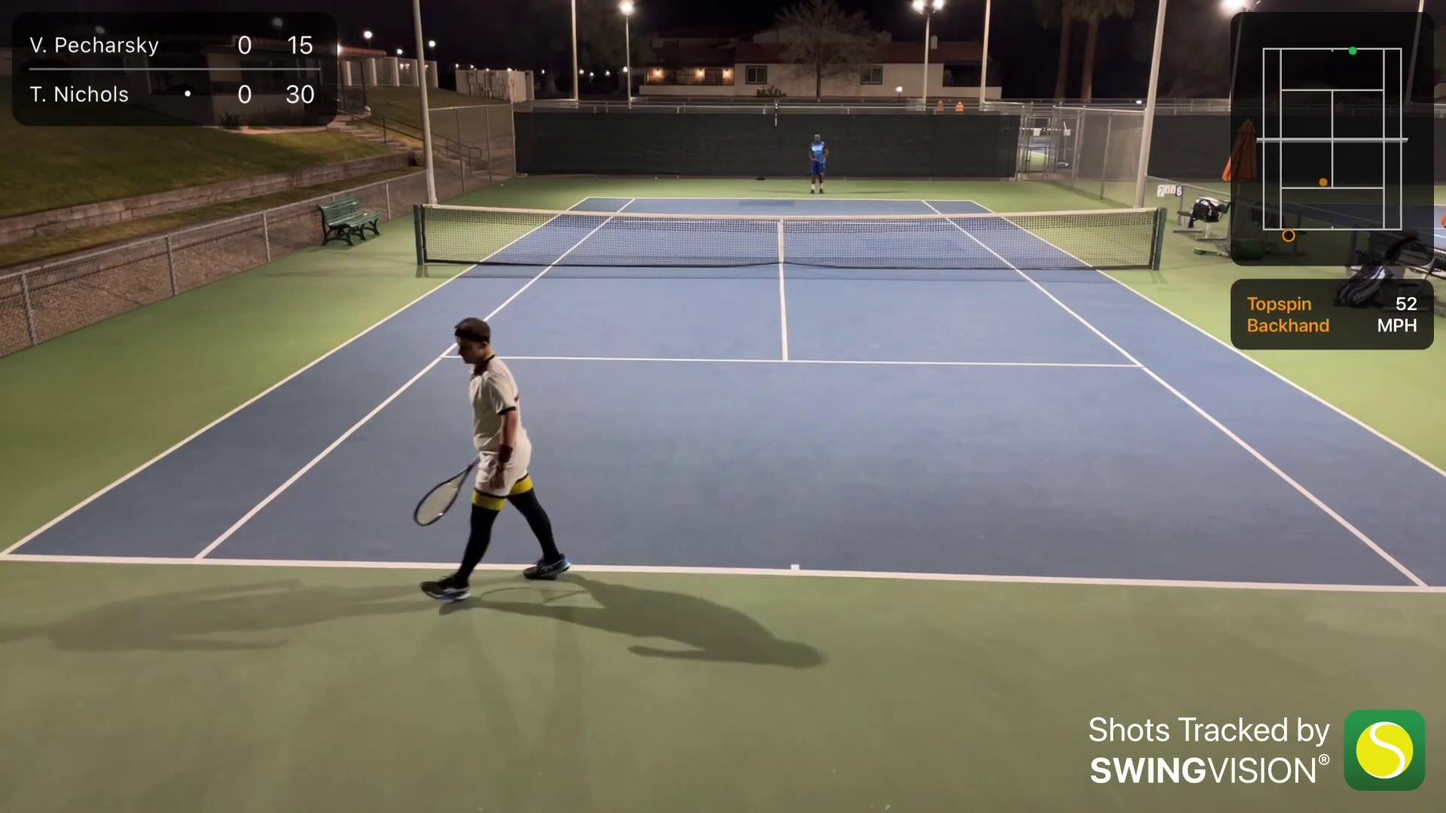ball: (653, 177, 659, 180), (499, 183, 505, 186)
